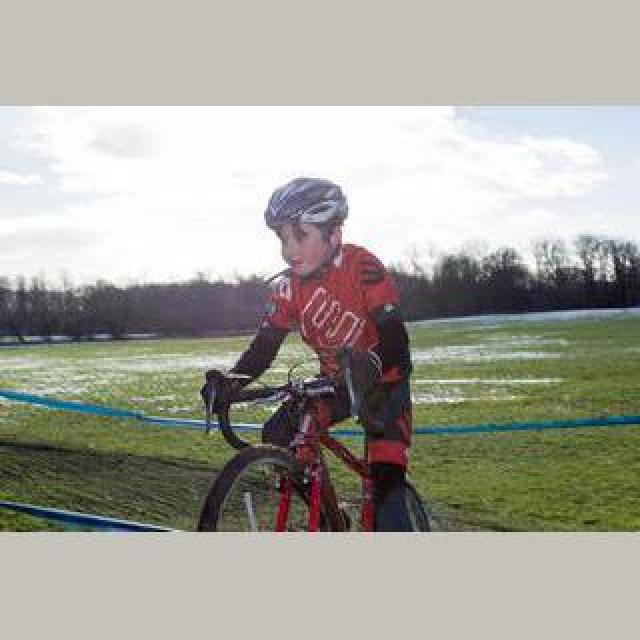MC-Bike: (202, 174, 416, 528)
Person: (196, 368, 438, 530)
